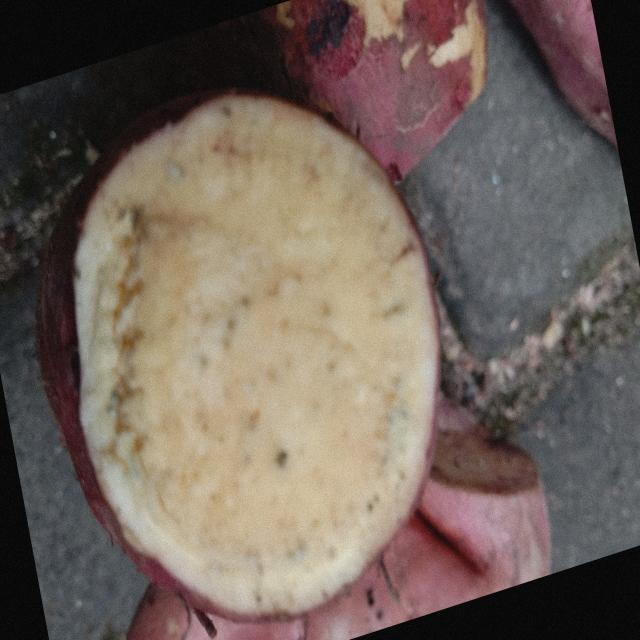Healthy Sweet Potato: (75, 97, 439, 615)
